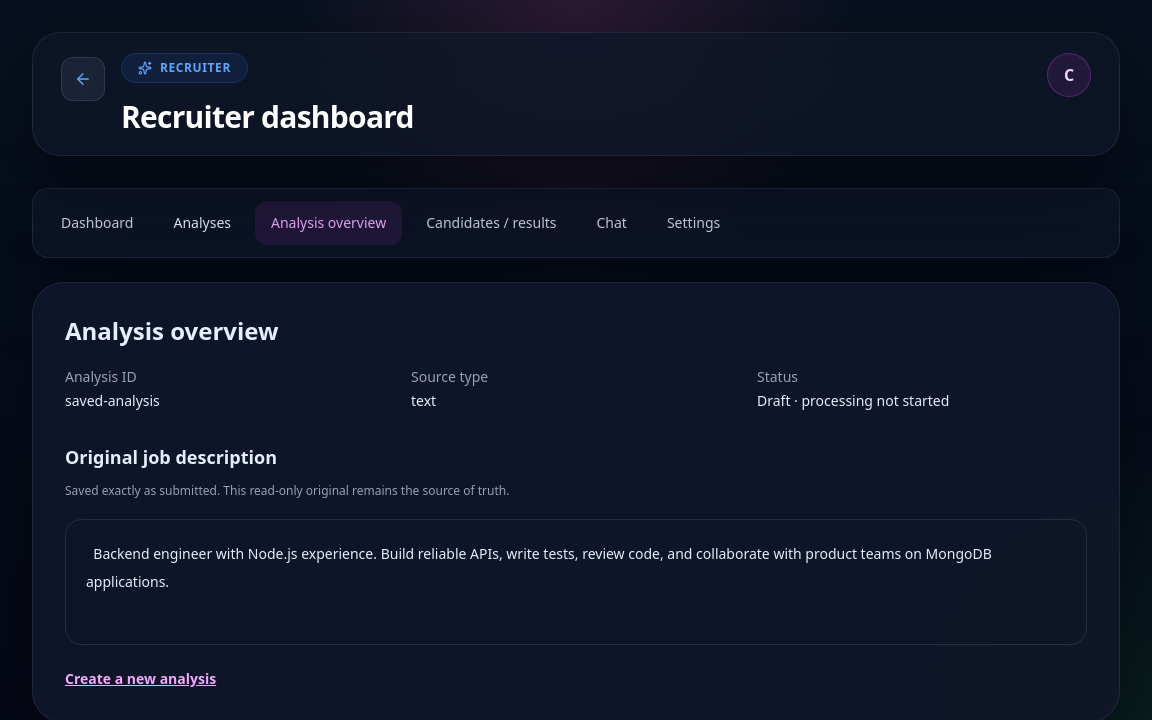
Scenario: recruiter navigation keeps the selected analysis when switching results and chat
This screenshot has width=1152, height=720.
Click the link to "/recruiter/analysis/example/candidates" at (491, 222), box [426,213,556,232]
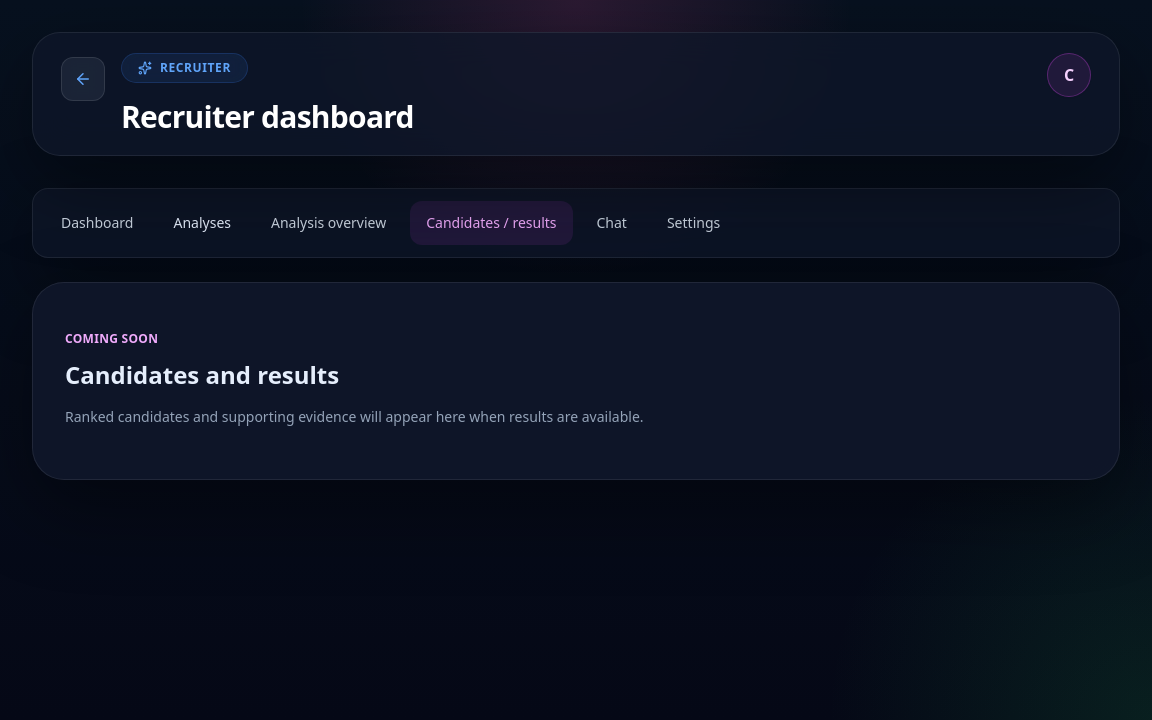
Expected: the link to "/recruiter/analysis/example/candidates" reads "Candidates / results", [410,201,572,245]
Result: the heading with id "recruiter-page-title" reads "Candidates and results" at [65,358,339,391]
Click the link to "/recruiter/analysis/example/chat" at (612, 222), box [596,213,627,232]
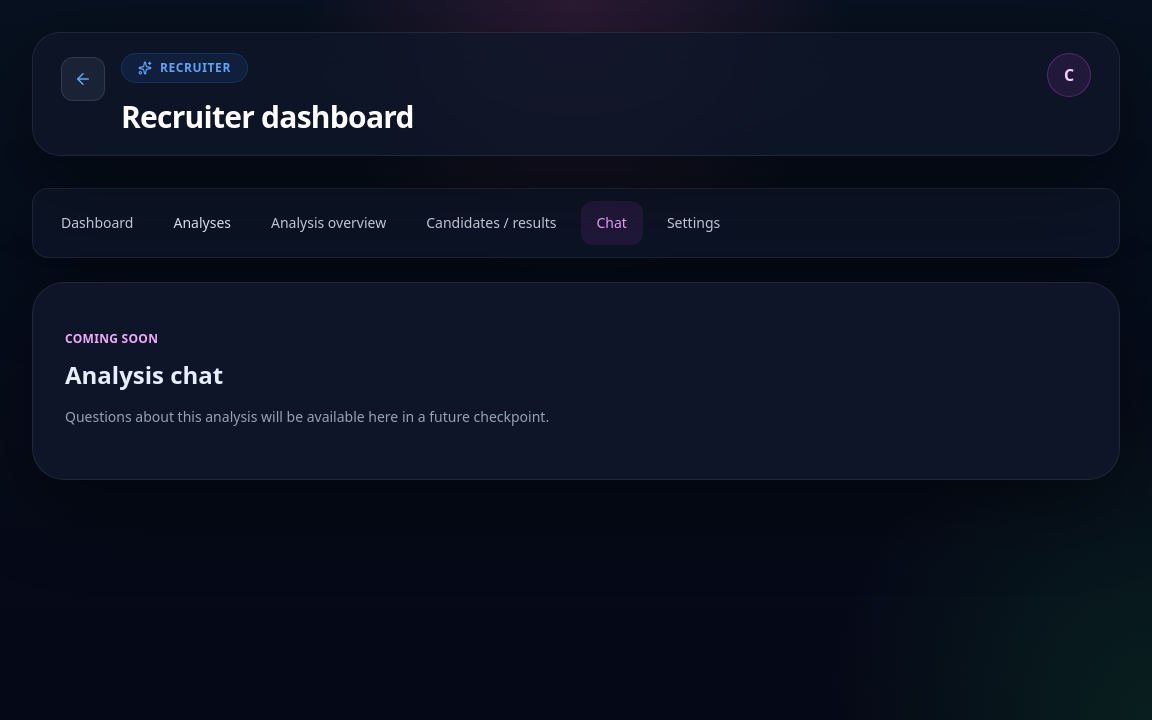
Result: the heading with id "recruiter-page-title" reads "Analysis chat" at [65,358,223,391]
Click the link to "/recruiter/analysis/example" at (329, 222), box [271,213,386,232]
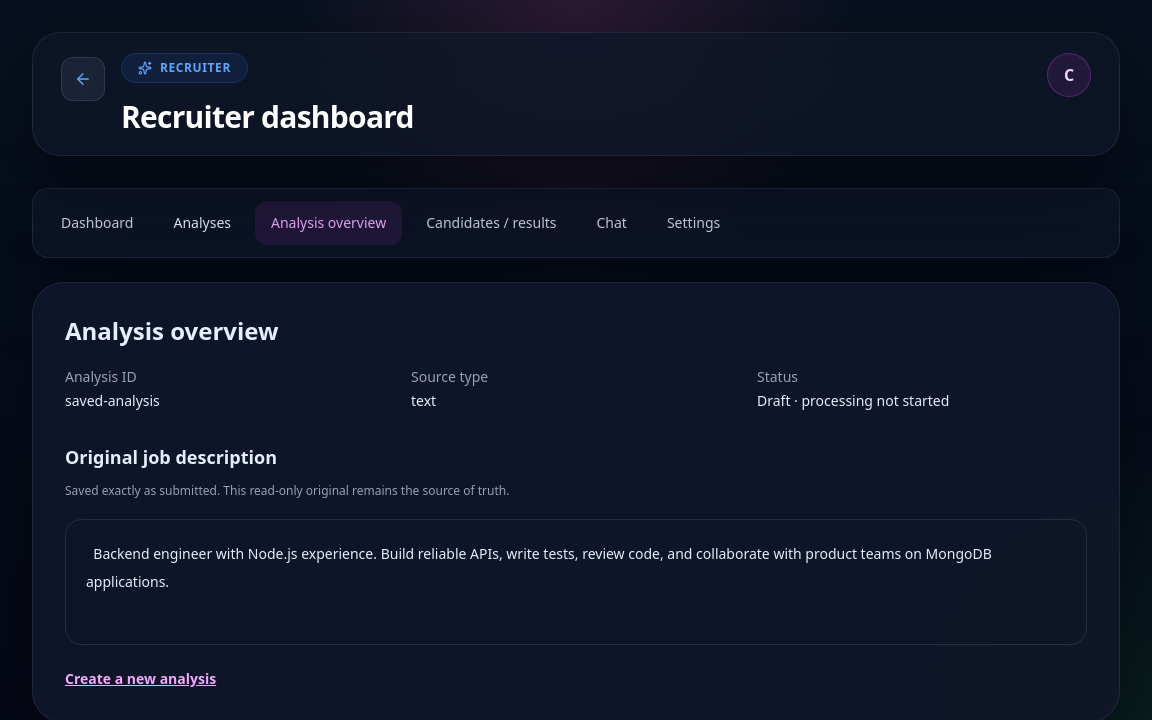
Result: the heading with id "recruiter-page-title" reads "Analysis overview" at [65,314,279,347]
Click the link with id "analyses" at (202, 222), box [174,213,231,232]
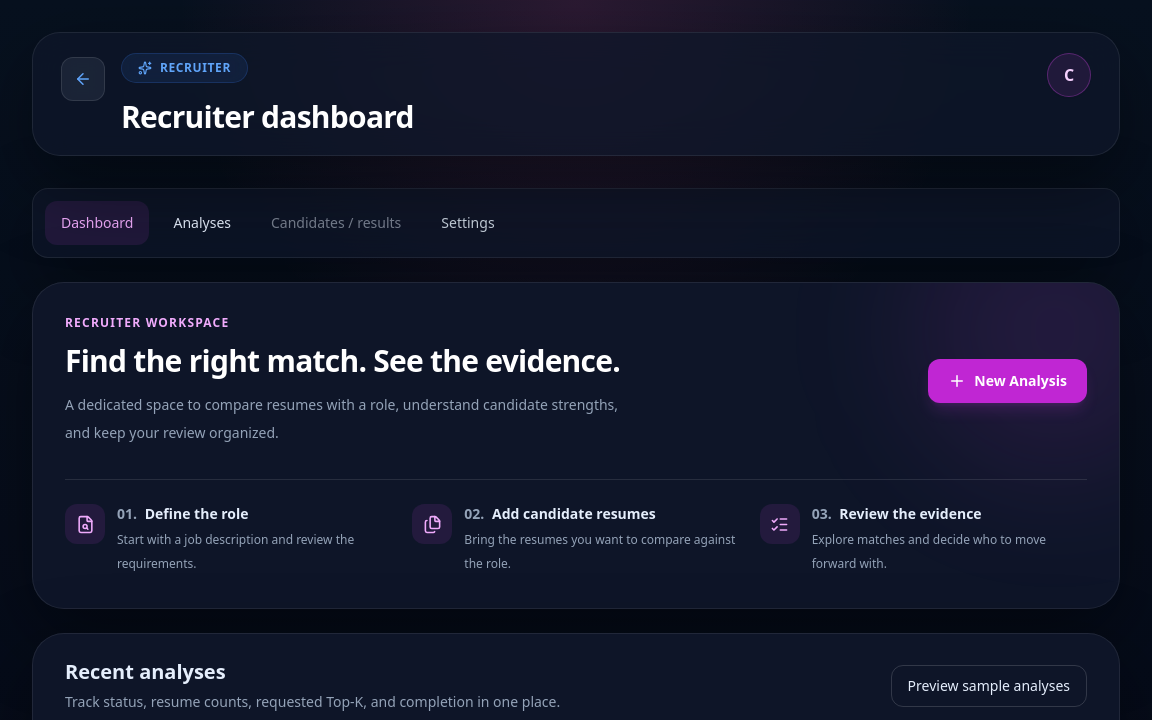
Click the link to "/recruiter/analysis/new" at (1008, 381), box [928,359,1087,403]
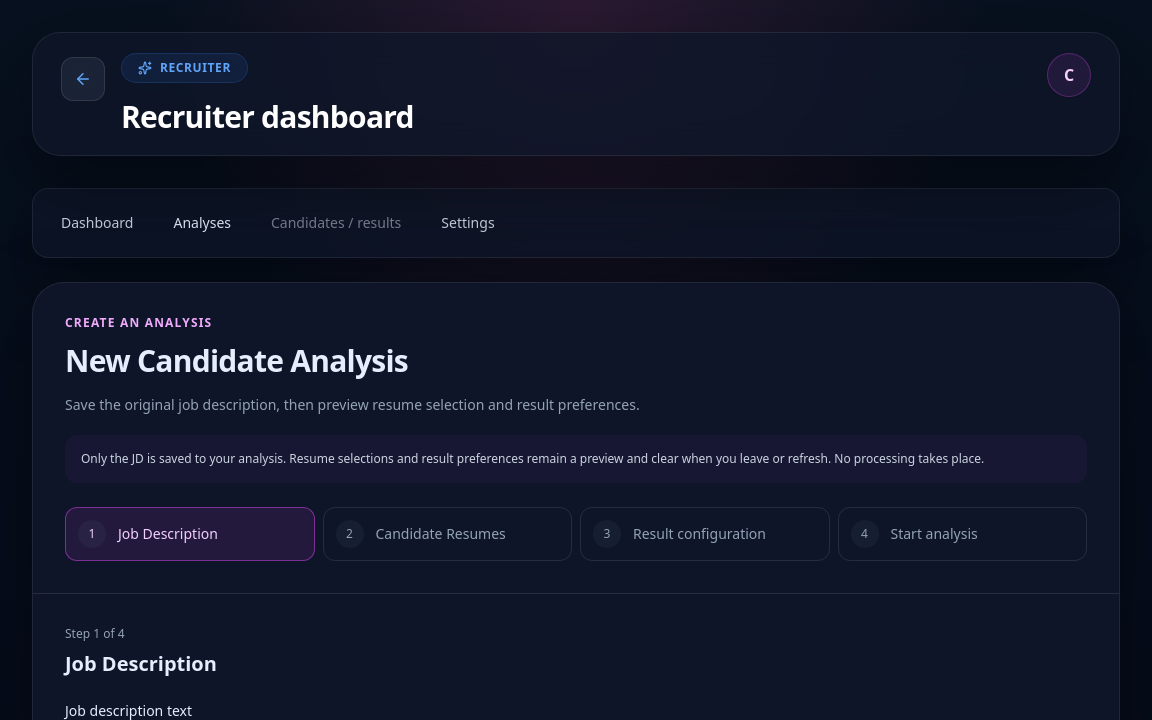
Expected: the button "Candidates / results" is disabled, [255,201,417,245]
Result: the heading with id "recruiter-page-title" reads "New Candidate Analysis" at [65,340,408,381]
